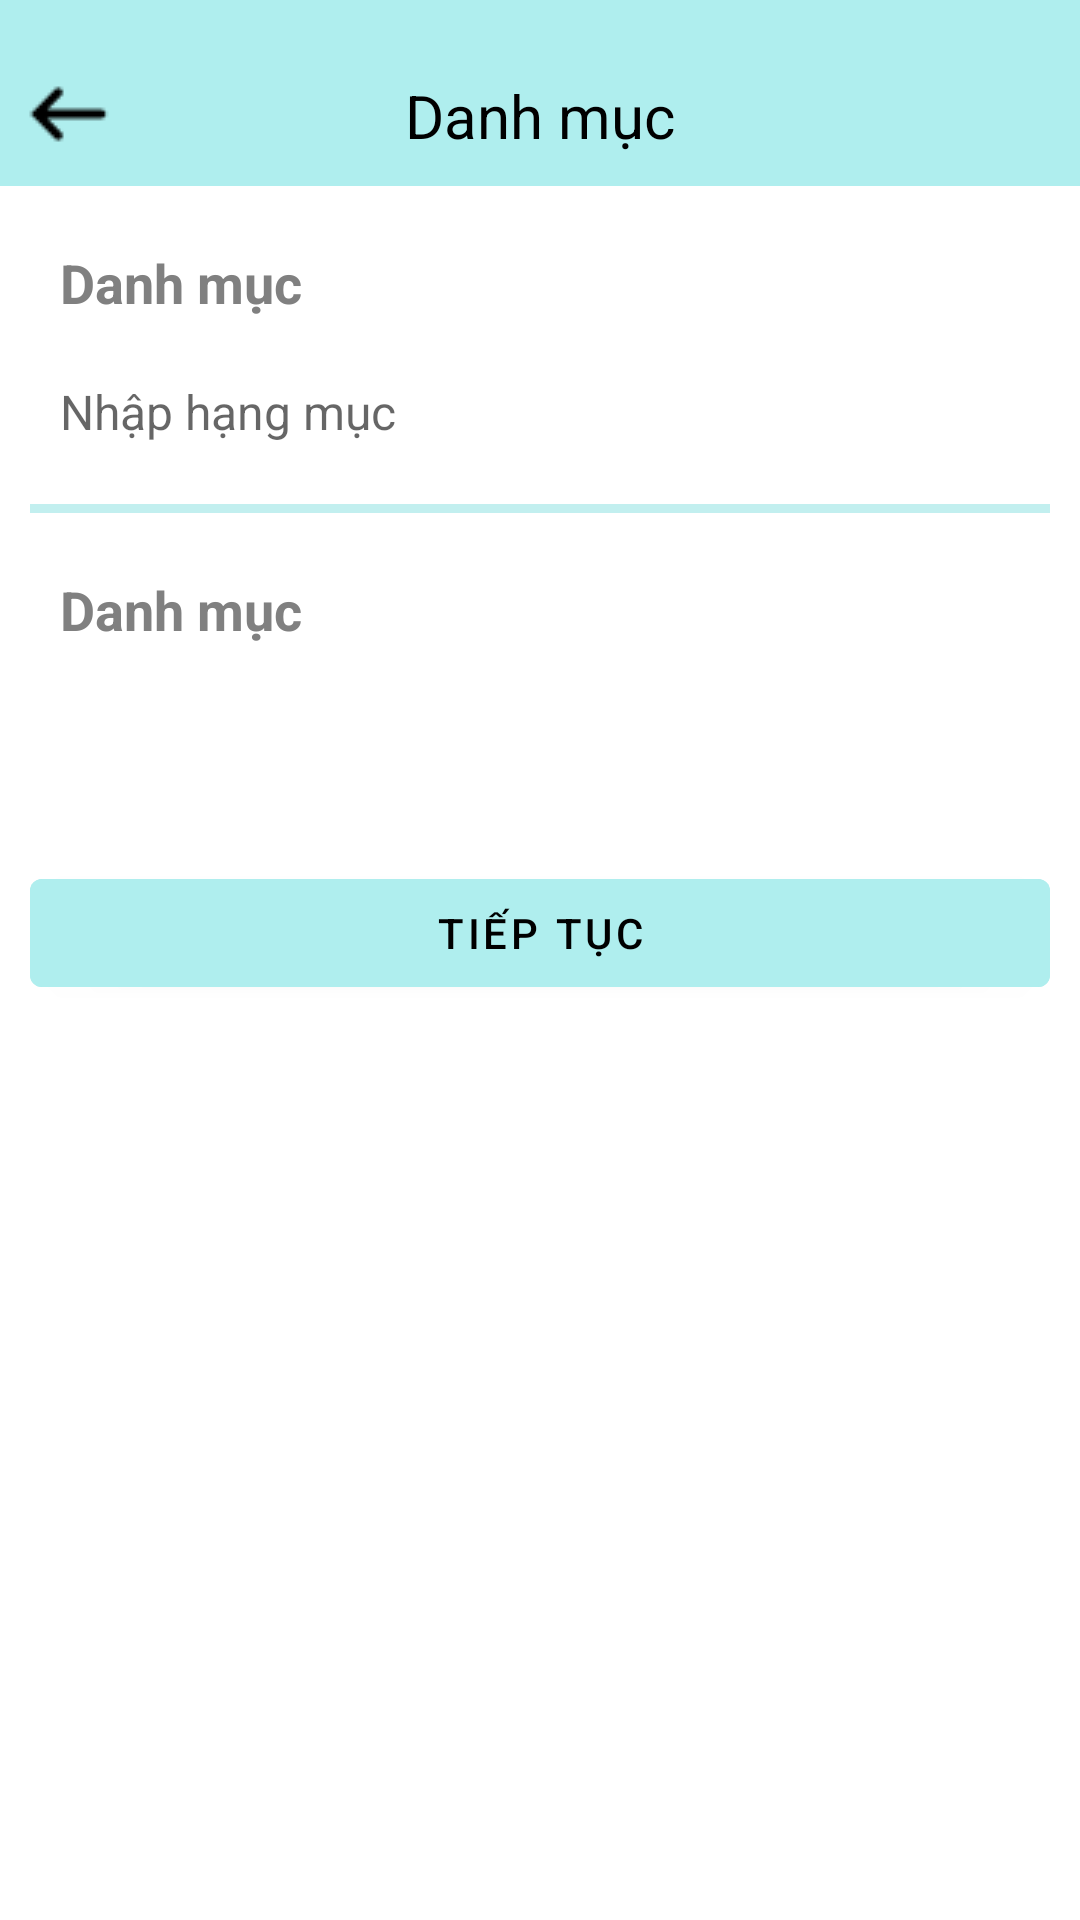

Locate icon controls on the screen. Image size 1080×1920, boxes as (x1, y1, x2, y2).
back: (30, 86, 107, 142)
